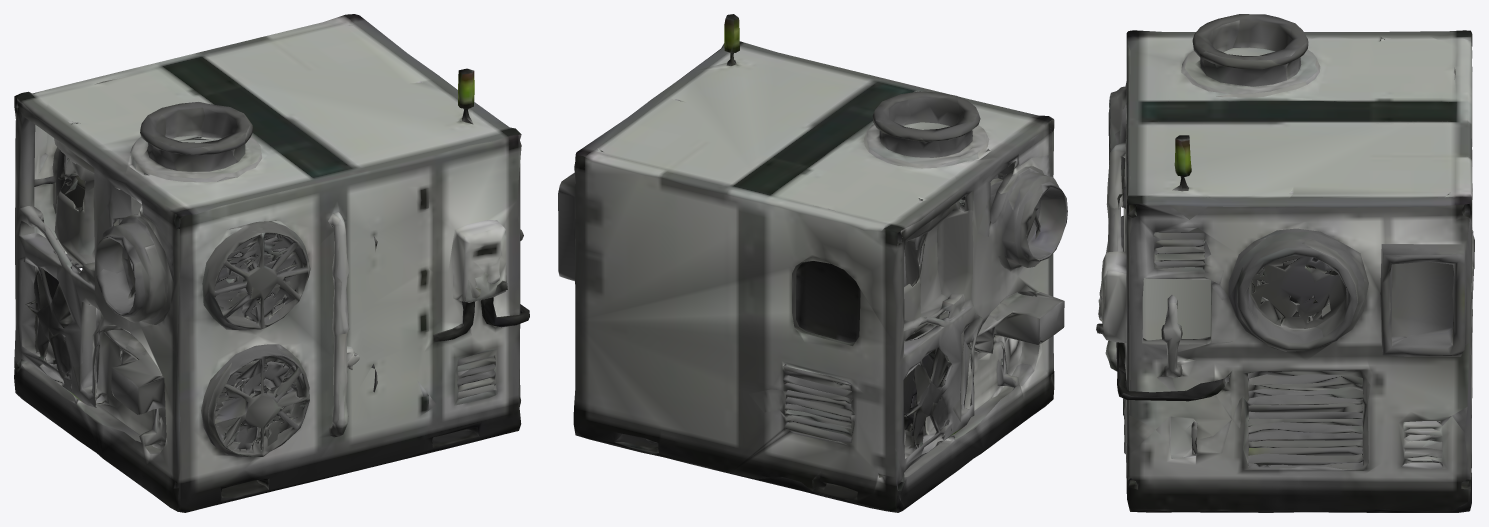
Rendered from hvac_unit.glb.
3 views of the same model, side by side, from view 1: azimuth 30°, elevation 25°; view 2: azimuth 150°, elevation 25°; view 3: azimuth 270°, elevation 25° (orthographic). The views are drawn at different scales.
Parts seen in each view (by area): view 1: geometry_0; view 2: geometry_0; view 3: geometry_0.
Part boxes in pixels (x1=…): geometry_0: x1=14, y1=14, x2=529, y2=512; geometry_0: x1=558, y1=14, x2=1067, y2=512; geometry_0: x1=1096, y1=14, x2=1474, y2=512.
Size of the model in its own units: 1 by 0.8547 by 0.809.
Materials: 1 (1 with a texture image).
